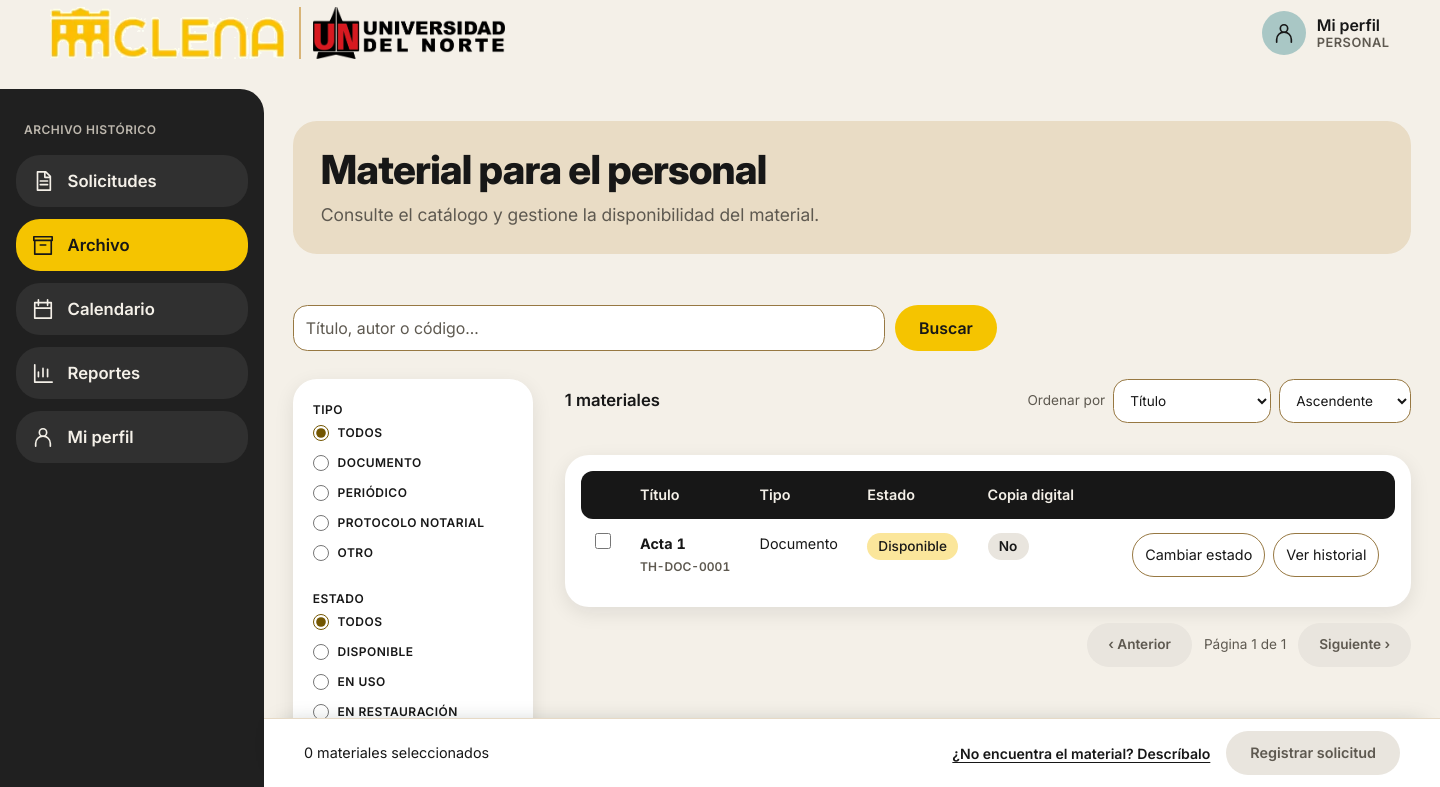
StaffMaterialsPage › saves without a reason when the field is empty and omits EN_USO from manual options (HU-72)
Click the button with aria-label "cambiar estado de acta 1" at (1199, 555), box [1132,533,1265,577]
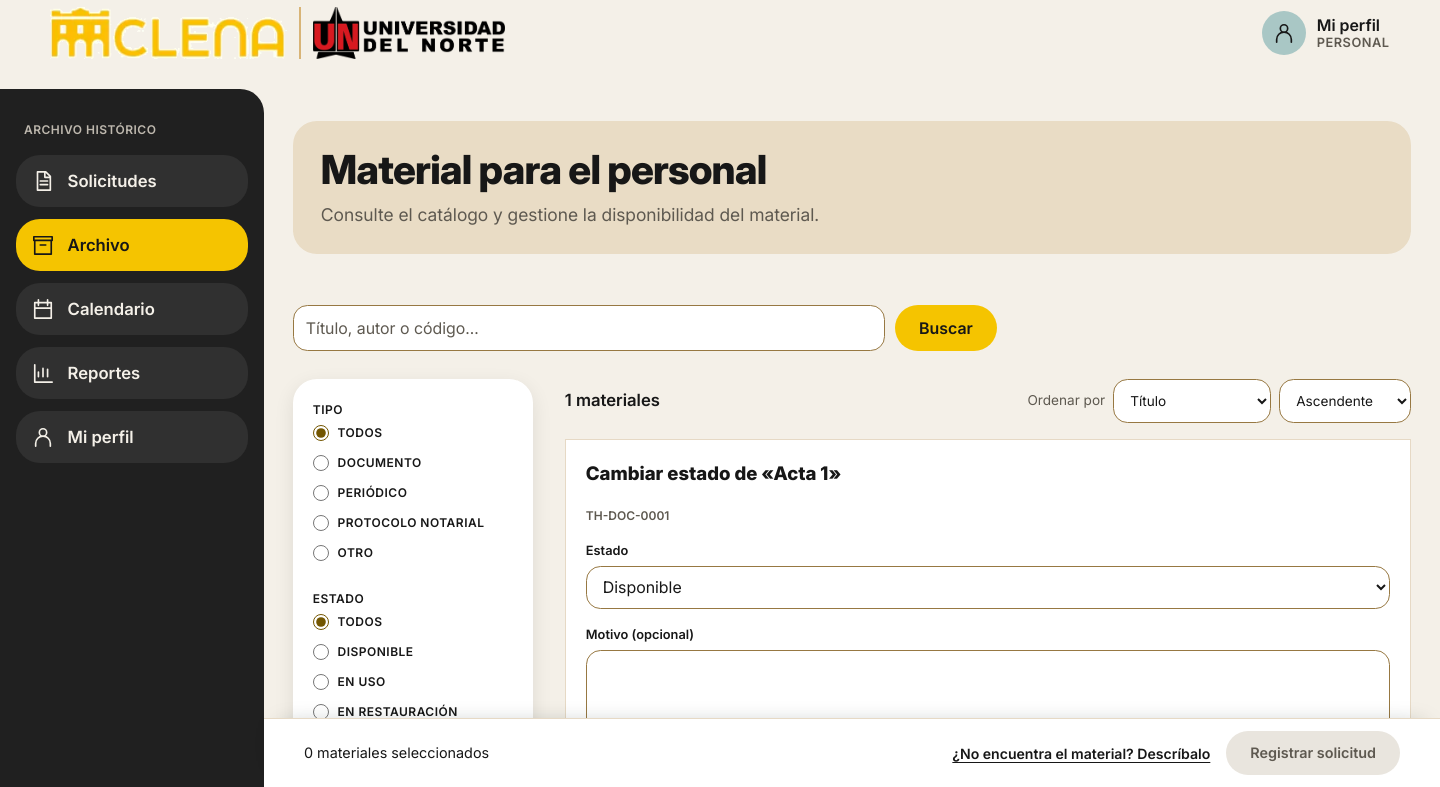
Expected: the radio button labelled "En uso" is shown, [313,674,329,690]
Select "No consultable" in the dropdown labelled "Estado" at (988, 587), box [586,566,1390,609]
(page scrolled)
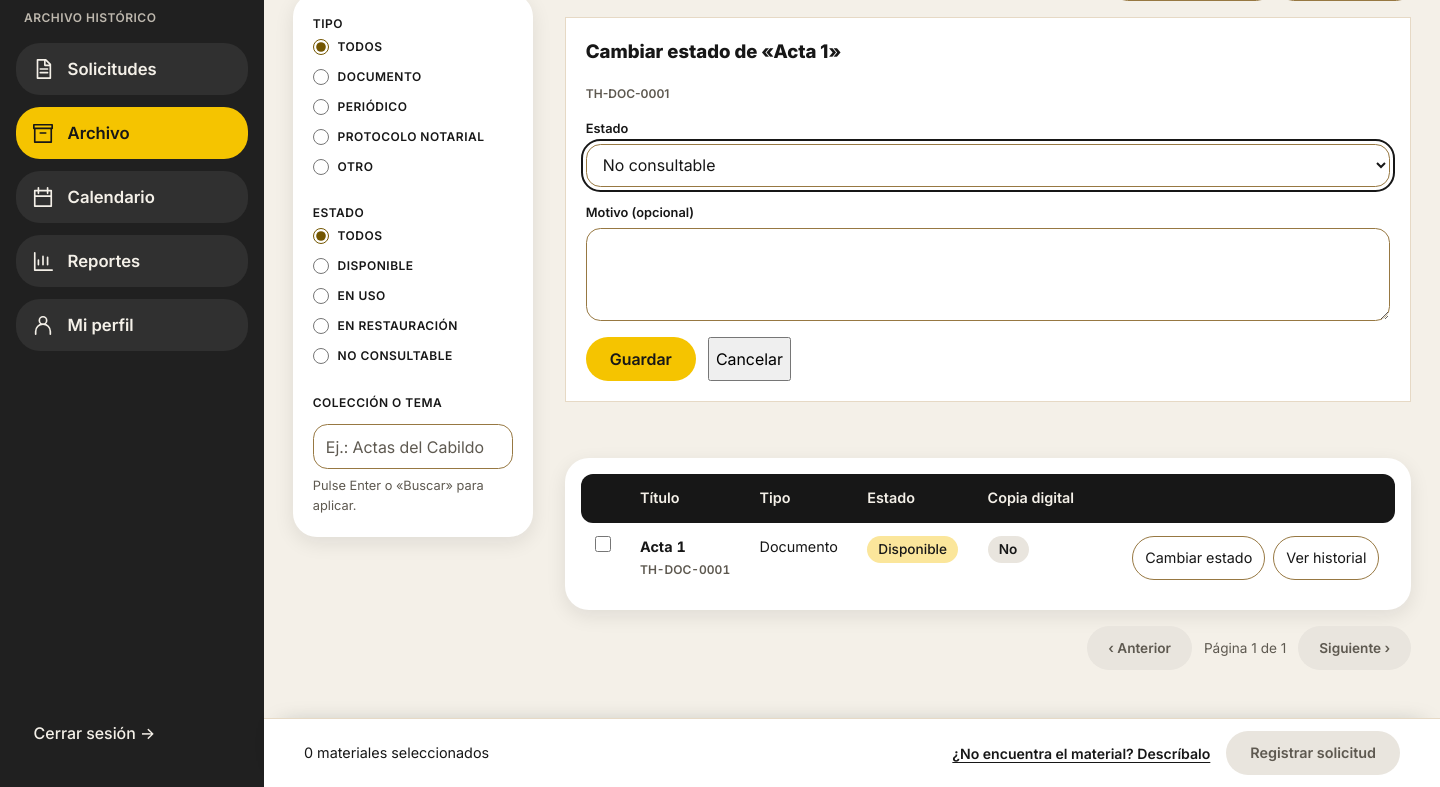
Click the button "Guardar" at (641, 359), box [586,337,696,381]
(page scrolled)
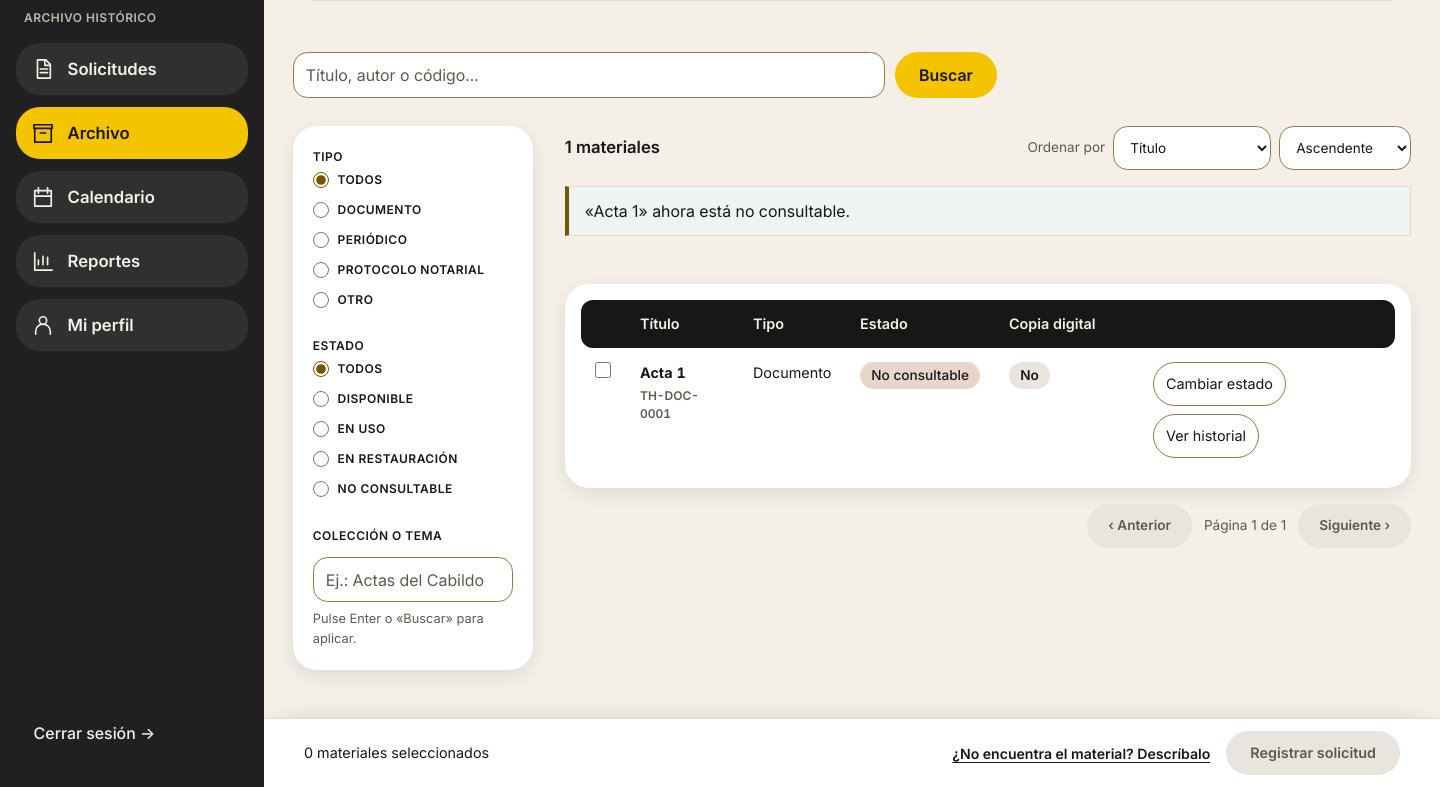
Result: the message "«Acta 1» ahora está no consultable." is shown at [565,186,1411,236]
